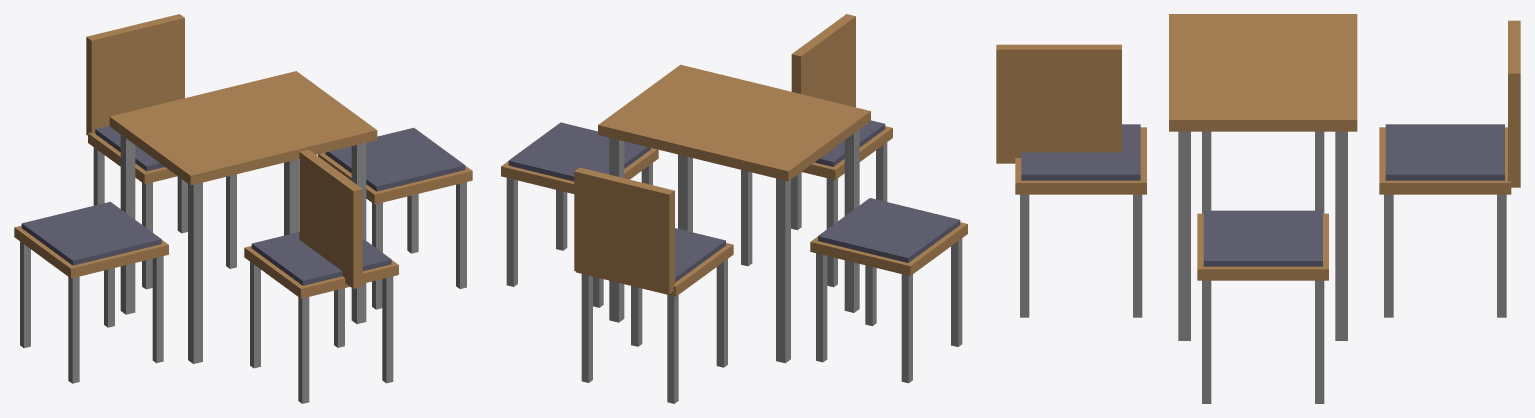
File: table-chair.glb
3 renders of one model, left to right at view 1: azimuth 30°, elevation 25°; view 2: azimuth 150°, elevation 25°; view 3: azimuth 270°, elevation 25°, orthographic. The views are drawn at different scales.
Parts seen in each view (by area): view 1: TableTop, ChairFront_Back, ChairLeft_Back, ChairBack_Back, ChairLeft_Cushion, ChairRight_Cushion, ChairBack_Cushion, Leg3, ChairLeft_Seat, Leg1, ChairBack_Seat, ChairRight_Seat (+19 smaller); view 2: TableTop, ChairFront_Back, ChairBack_Back, ChairLeft_Cushion, ChairLeft_Back, ChairRight_Cushion, Leg1, ChairLeft_Seat, Leg3, ChairFront_Cushion, ChairRight_Seat, ChairFront_CLeg.001 (+18 smaller); view 3: TableTop, ChairLeft_Back, ChairFront_Cushion, ChairRight_Cushion, ChairBack_Cushion, Leg0, Leg2, ChairRight_Seat, ChairFront_Seat, ChairBack_Seat, ChairFront_Back, ChairFront_CLeg (+8 smaller).
Part boxes in pixels (x1,y1,x2,y2): TableTop: (109, 71, 377, 185); ChairFront_Back: (86, 14, 184, 132); ChairLeft_Back: (299, 149, 362, 288); ChairBack_Back: (86, 14, 184, 135); ChairLeft_Cushion: (21, 201, 161, 265); ChairRight_Cushion: (325, 127, 465, 191); ChairBack_Cushion: (251, 232, 391, 285); Leg3: (188, 182, 202, 363); ChairLeft_Seat: (14, 225, 168, 278); Leg1: (120, 135, 135, 314); ChairBack_Seat: (244, 246, 398, 298); ChairRight_Seat: (318, 153, 472, 204); TableTop: (598, 64, 870, 181); ChairFront_Back: (574, 167, 674, 293); ChairBack_Back: (574, 167, 674, 293); ChairLeft_Cushion: (818, 198, 960, 262); ChairLeft_Back: (791, 14, 855, 107); ChairRight_Cushion: (508, 122, 650, 181); Leg1: (776, 178, 790, 363); ChairLeft_Seat: (810, 222, 967, 275); Leg3: (844, 129, 859, 312); ChairFront_Cushion: (675, 228, 725, 282); ChairRight_Seat: (501, 148, 658, 193); ChairFront_CLeg.001: (667, 295, 678, 403); TableTop: (1169, 14, 1357, 131); ChairLeft_Back: (996, 44, 1121, 163); ChairFront_Cushion: (1385, 124, 1504, 180); ChairRight_Cushion: (1203, 210, 1322, 266); ChairBack_Cushion: (1021, 124, 1140, 180); Leg0: (1335, 131, 1347, 340); Leg2: (1178, 131, 1190, 340); ChairRight_Seat: (1197, 213, 1328, 280); ChairFront_Seat: (1379, 127, 1511, 194); ChairBack_Seat: (1015, 127, 1146, 194); ChairFront_Back: (1508, 21, 1520, 187); ChairFront_CLeg: (1497, 194, 1506, 317).
Bounding box in the file's own units: 1.72 × 0.86 × 1.67.
